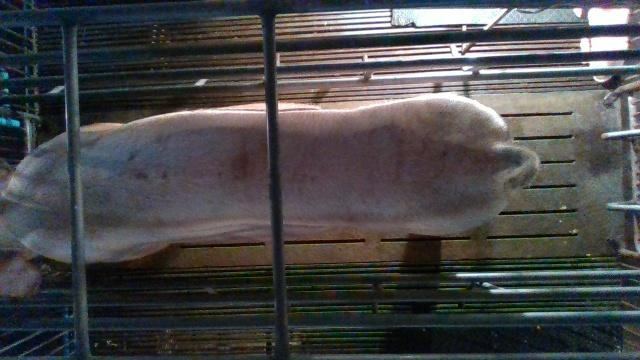piglet: (574, 8, 631, 83)
sow-stand-feed: (0, 92, 544, 299)
